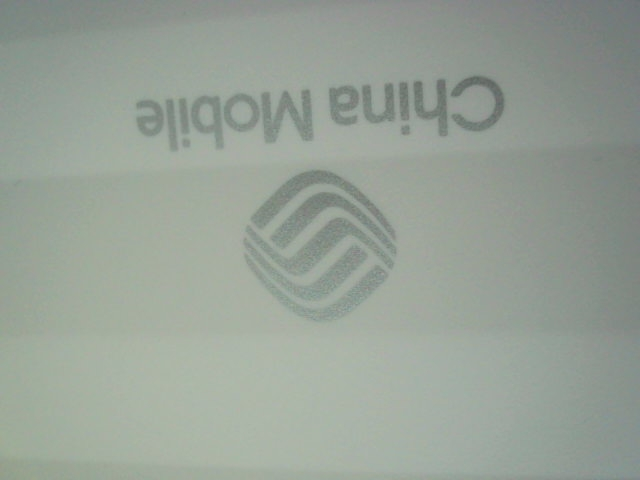AA_ChinaMobile: (125, 74, 511, 327)
